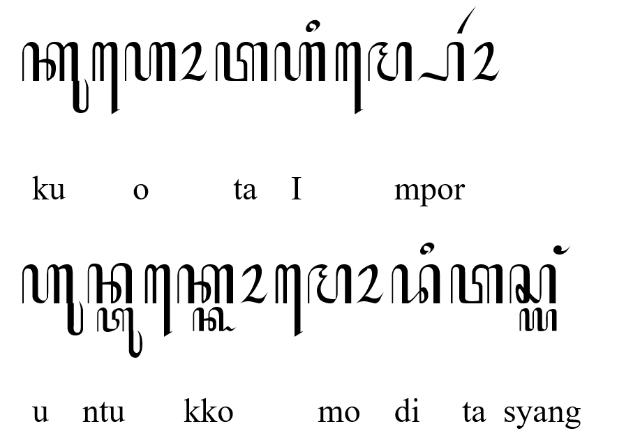_k: (193, 306, 237, 332)
_p: (417, 41, 465, 81)
_r1: (456, 5, 476, 34)
d: (391, 264, 441, 305)
e1: (274, 264, 304, 338), (92, 42, 120, 114), (335, 42, 363, 114), (144, 265, 172, 337)
h: (124, 41, 176, 82), (274, 41, 326, 82)
hu: (22, 264, 84, 336)
i: (419, 241, 435, 256), (306, 20, 320, 32)
k: (176, 264, 234, 304)
ku: (21, 41, 89, 113)
m: (367, 42, 413, 82), (308, 264, 352, 305)
n: (86, 264, 134, 306)
ng: (552, 245, 570, 256)
o: (356, 264, 384, 306), (180, 41, 208, 82), (472, 41, 500, 81), (240, 264, 268, 302)
s: (508, 264, 556, 305)
t: (214, 41, 268, 82), (449, 264, 503, 305)
tu: (96, 306, 142, 360)
y: (518, 308, 558, 332)
